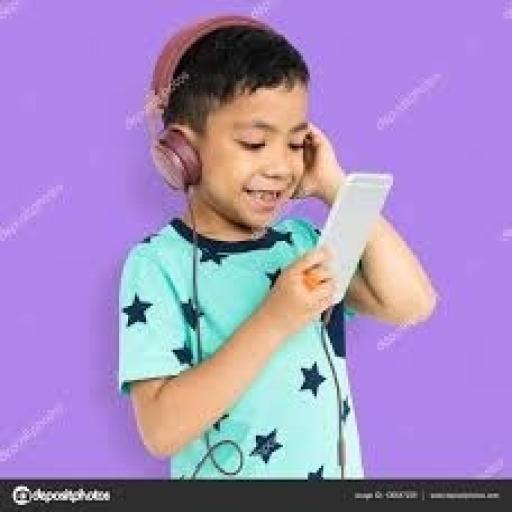listening_to_music: (114, 11, 442, 482)
